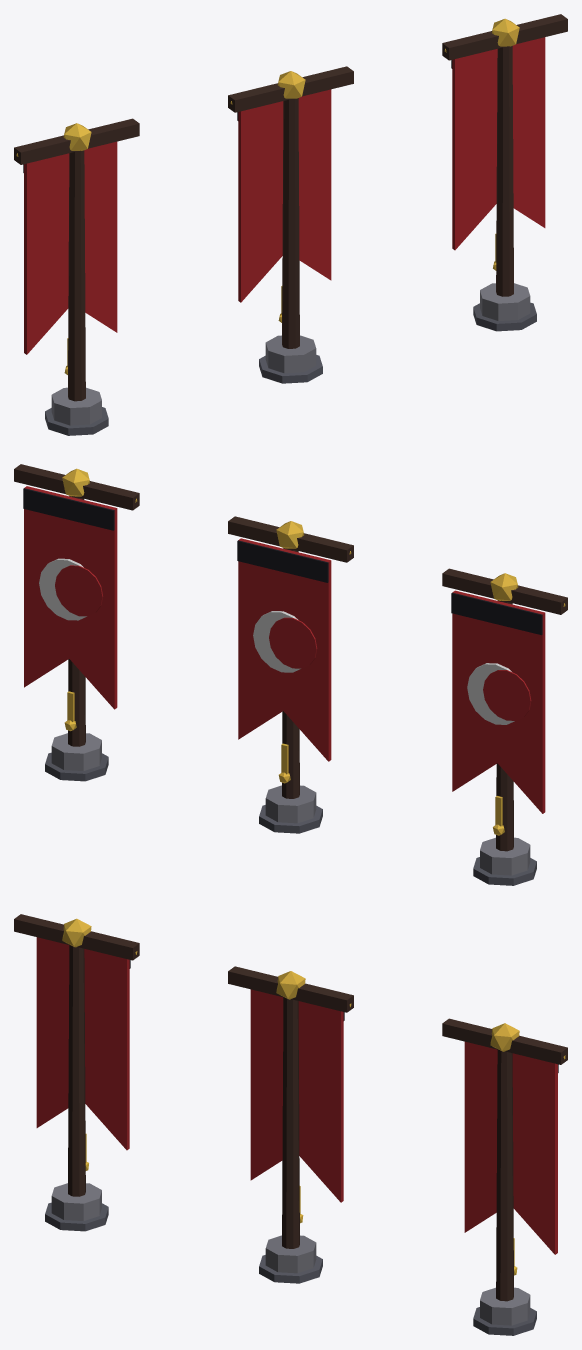
Rendered from Decor_NinjaDojo_Banners.fbx.
The picture shows the model from 3 angles, top to bottom: view 1: azimuth 30°, elevation 25°; view 2: azimuth 150°, elevation 25°; view 3: azimuth 330°, elevation 25°; orthographic projection.
Visible parts, largest first — view 1: Banners_Body; view 2: Banners_Body; view 3: Banners_Body.
Boxes of the visible parts, x1,y1,x2,y2 form: Banners_Body: (14,14,567,435); Banners_Body: (14,464,567,885); Banners_Body: (14,914,567,1335).
Size of the model in its own units: 23 by 12 by 2.4.
